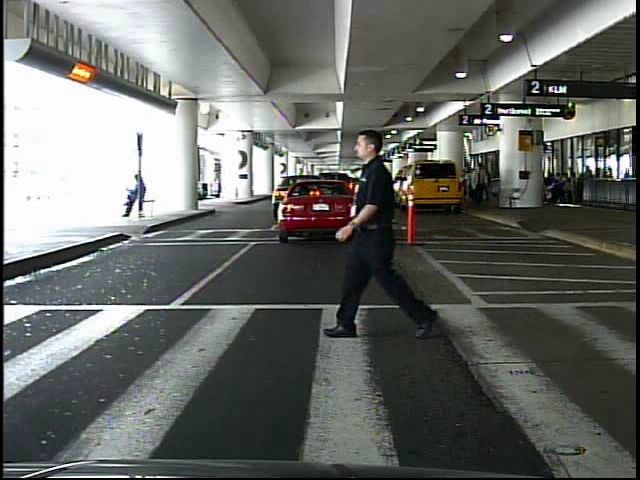person: (334, 134, 443, 339), (473, 163, 489, 208)
